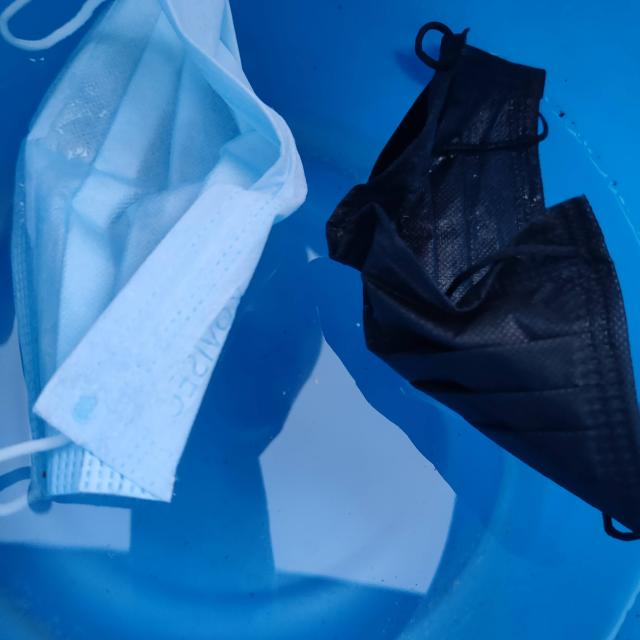litter: (0, 0, 640, 568), (0, 0, 317, 541), (324, 9, 640, 546)
